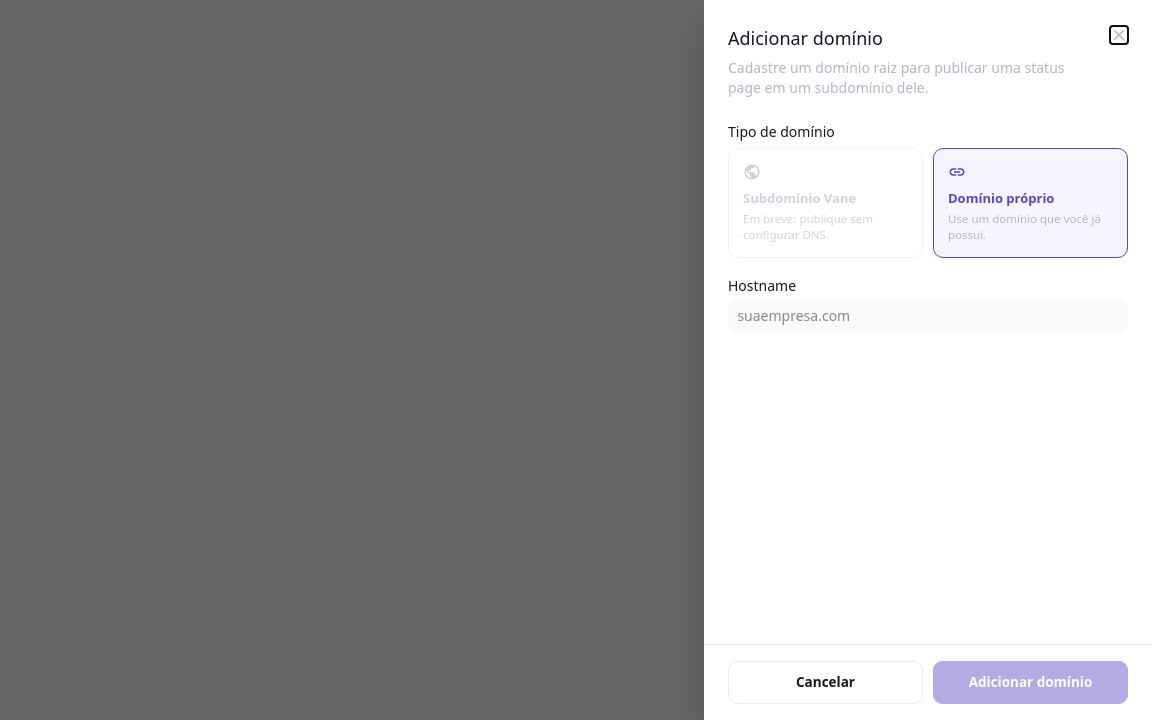
Test: AddDomainDrawer › duplicate hostname (409) shows an inline error
In the field labelled "Hostname": (928, 316) [728,298,1128,334], type "status.ja-existe.com"
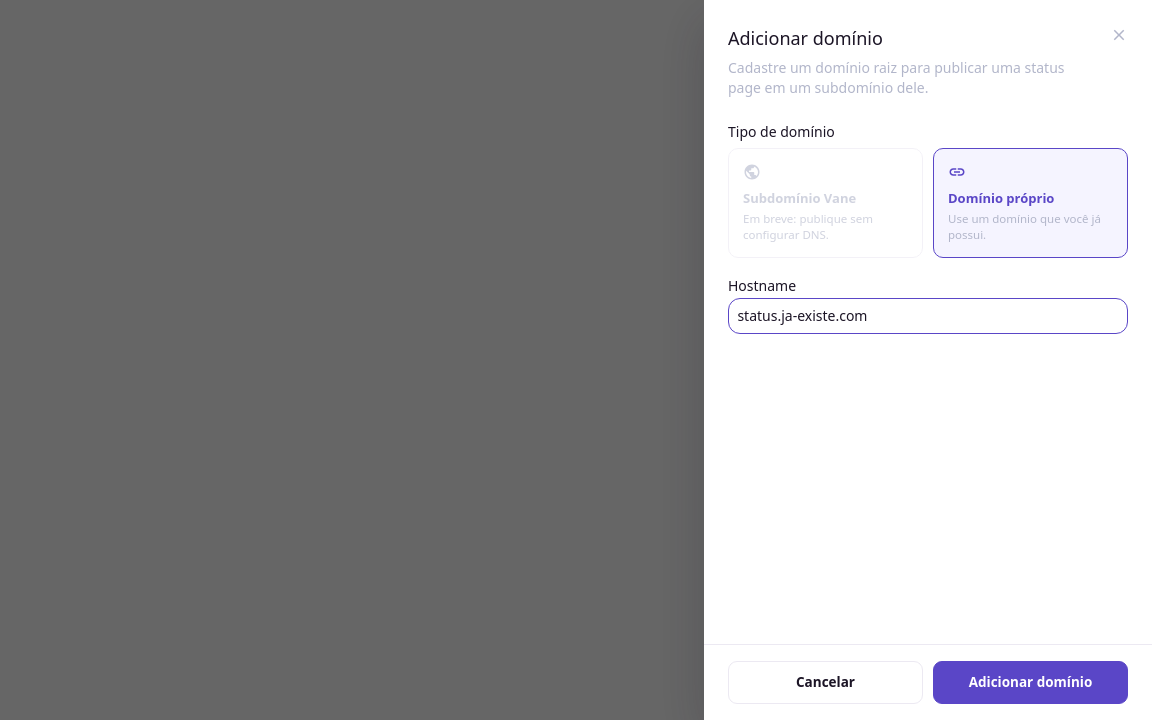
Click the button "Adicionar domínio": (1030, 682) [933,661,1128,704]
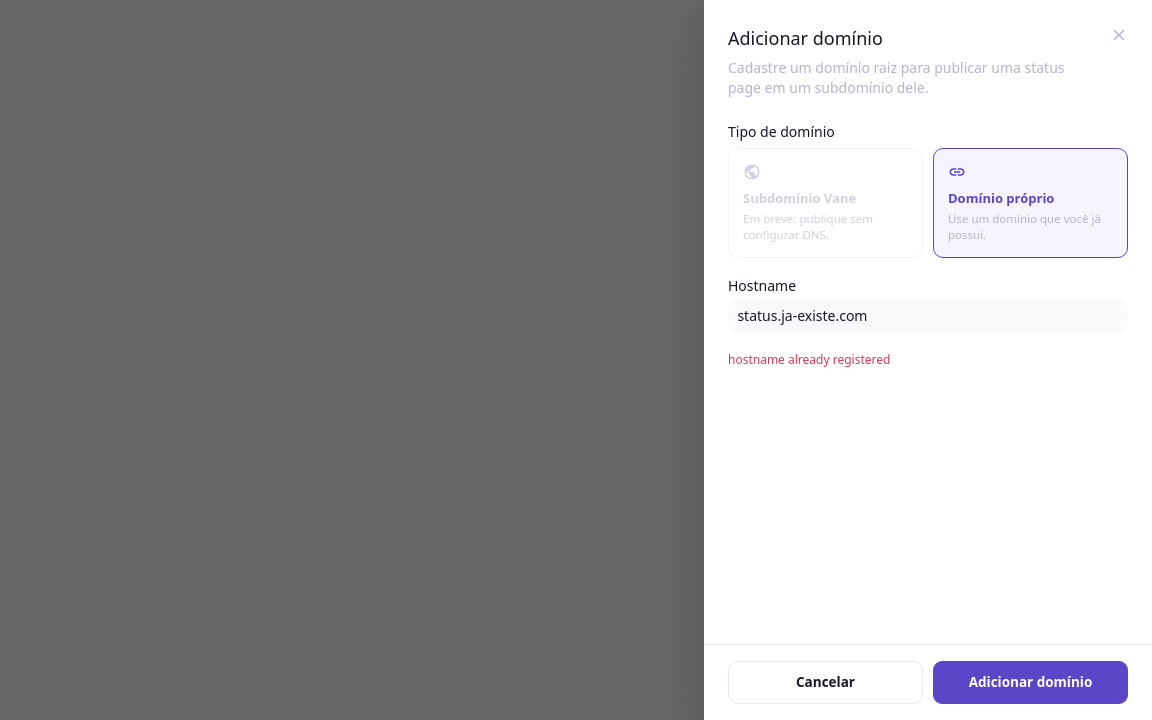
Result: the message reads "hostname already registered" at [728,352,890,368]
